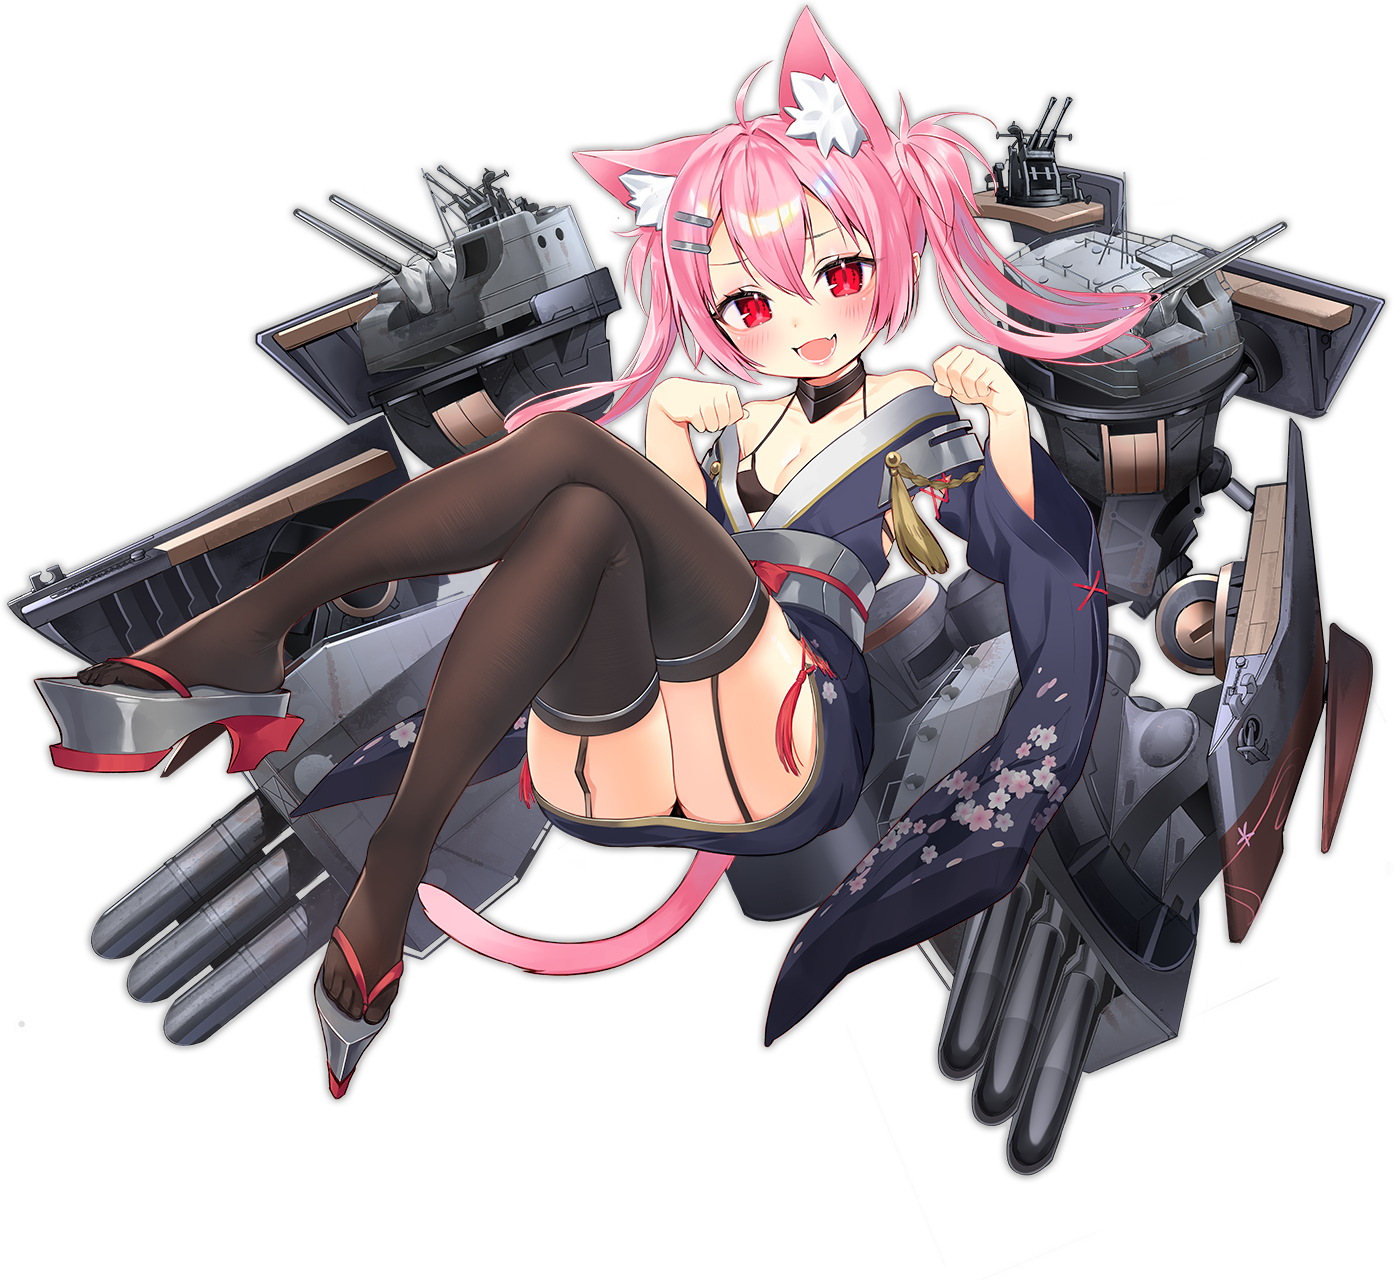person: (577, 75, 945, 1134)
